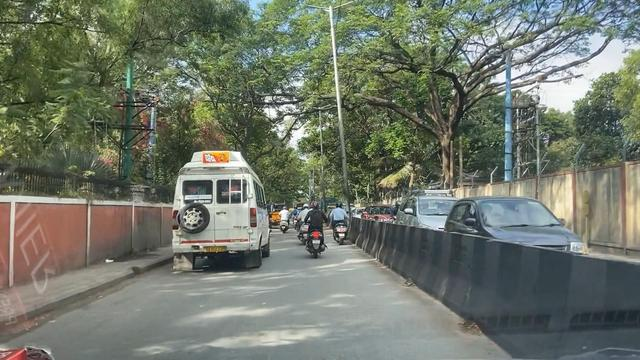LMV: (174, 158, 256, 272), (308, 202, 326, 257), (336, 202, 347, 245)
